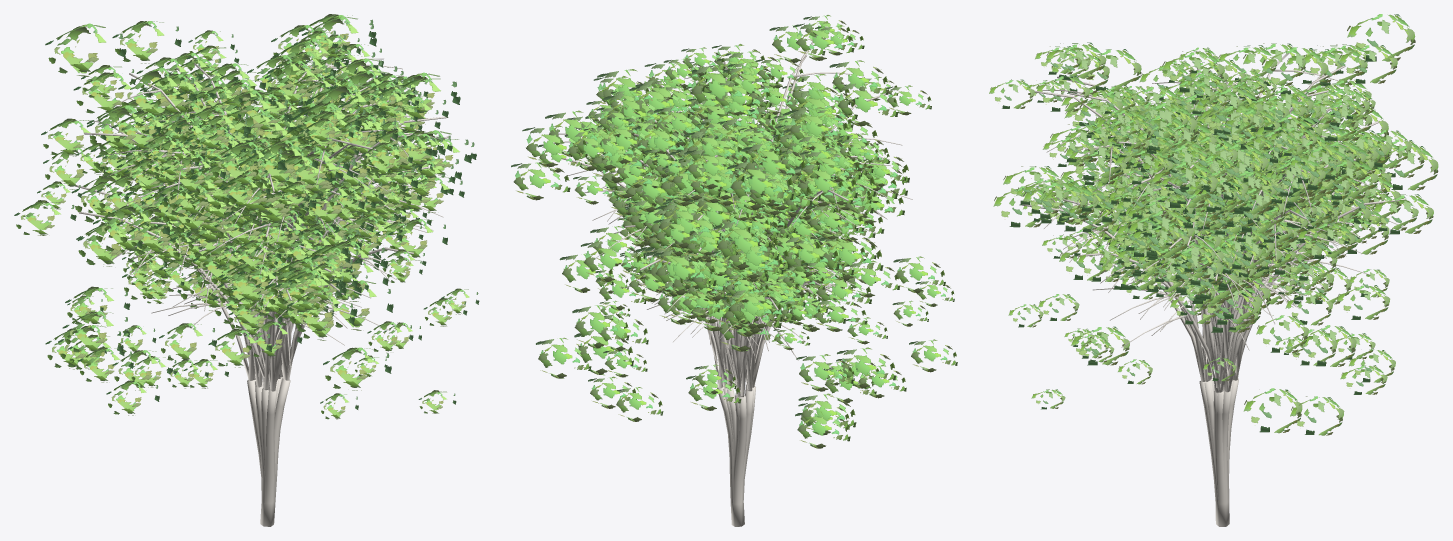
The model's file is birch.glb.
3 renders of one model, left to right at view 1: azimuth 30°, elevation 25°; view 2: azimuth 150°, elevation 25°; view 3: azimuth 270°, elevation 25°, orthographic. The views are drawn at different scales.
Parts seen in each view (by area): view 1: BirchTree_2, BirchTree_3, BirchTree_1, BirchTree_5, BirchTree_4; view 2: BirchTree_2, BirchTree_5, BirchTree_3, BirchTree_1, BirchTree_4; view 3: BirchTree_3, BirchTree_2, BirchTree_1, BirchTree_5, BirchTree_4.
Part boxes in pixels (bbox=[...]): BirchTree_2: bbox=[45, 21, 460, 526]; BirchTree_3: bbox=[58, 25, 456, 526]; BirchTree_1: bbox=[41, 51, 479, 526]; BirchTree_5: bbox=[14, 58, 467, 526]; BirchTree_4: bbox=[68, 14, 426, 524]; BirchTree_2: bbox=[567, 44, 957, 525]; BirchTree_5: bbox=[574, 56, 928, 526]; BirchTree_3: bbox=[511, 60, 931, 526]; BirchTree_1: bbox=[559, 55, 912, 522]; BirchTree_4: bbox=[522, 15, 945, 526]; BirchTree_3: bbox=[1003, 49, 1395, 519]; BirchTree_2: bbox=[1042, 14, 1415, 526]; BirchTree_1: bbox=[993, 43, 1438, 526]; BirchTree_5: bbox=[1016, 73, 1433, 433]; BirchTree_4: bbox=[989, 42, 1390, 526].
Bounding box in the file's own units: 3.81 × 4.53 × 3.92.
2 materials, 1 textured.
